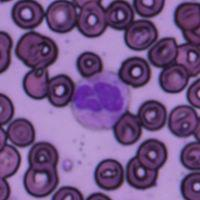N: (70, 72, 130, 130)
